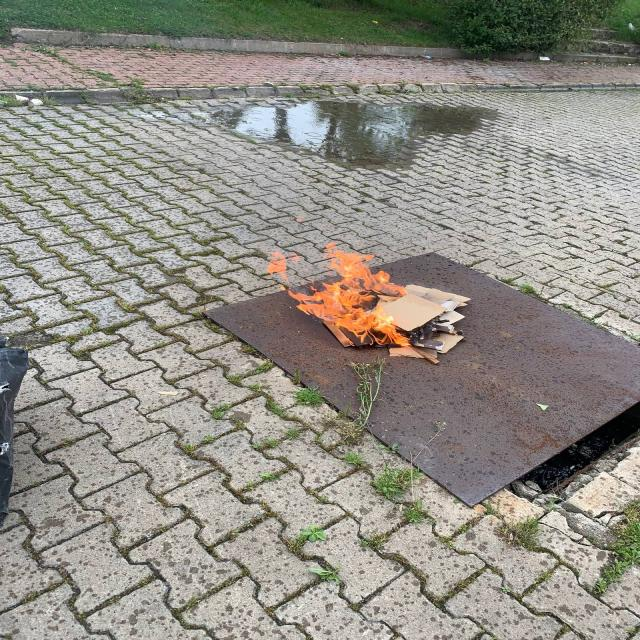fire: (261, 230, 424, 358)
